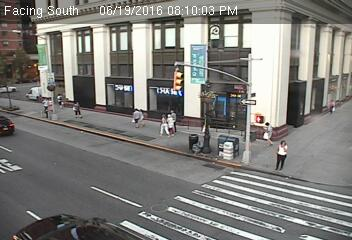neg: (323, 24, 343, 50), (118, 193, 136, 217), (211, 192, 228, 215), (144, 56, 161, 78), (198, 90, 214, 112), (300, 95, 316, 117), (172, 158, 188, 179), (122, 57, 138, 78), (52, 136, 68, 157), (166, 202, 182, 223), (265, 60, 281, 81), (201, 141, 217, 161), (85, 156, 101, 176), (90, 50, 105, 71), (177, 54, 192, 74), (31, 47, 46, 66), (62, 51, 76, 70), (285, 196, 299, 215), (318, 140, 331, 158), (300, 63, 312, 79), (27, 115, 37, 129)
pos: (272, 139, 296, 171), (256, 117, 278, 145), (158, 115, 174, 137), (129, 105, 145, 127), (326, 96, 341, 116), (71, 99, 85, 118), (165, 111, 179, 130)
